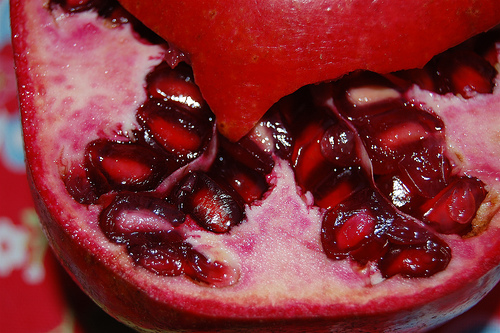pomogranate: (9, 0, 499, 332)
